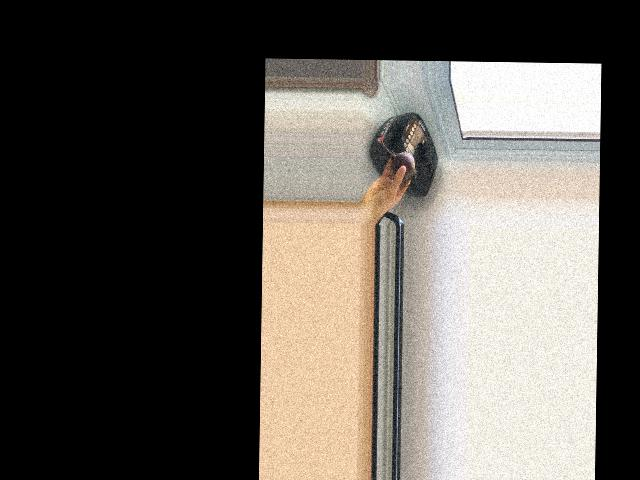beet: (381, 141, 417, 186)
